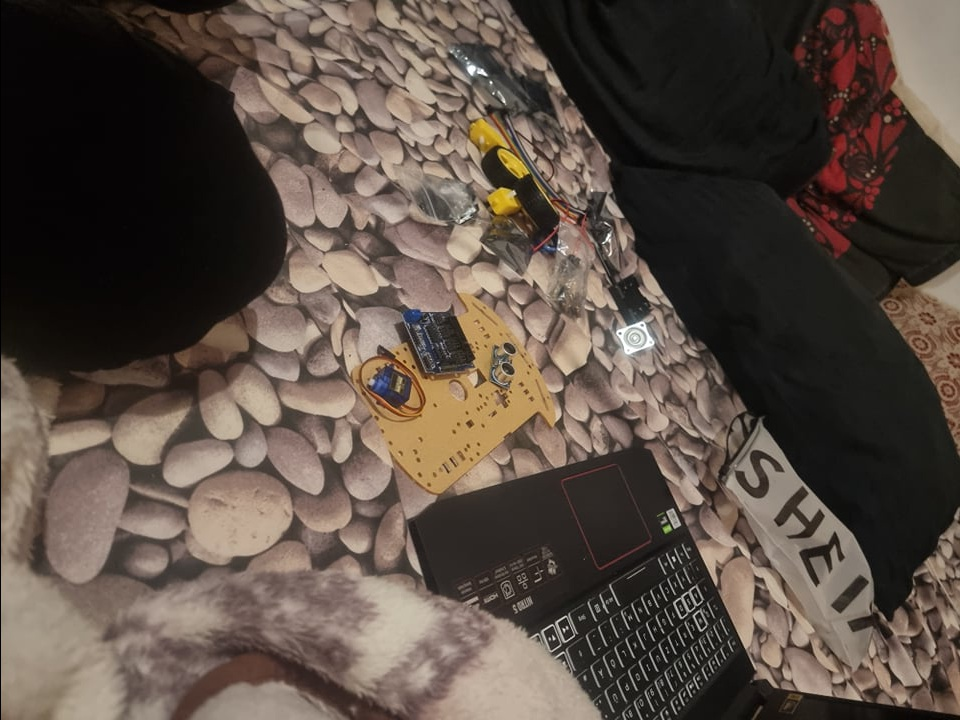5V EXPANSION: (402, 303, 475, 380)
BATTERY BOX: (614, 271, 647, 325)
SENSOR: (491, 339, 518, 392)
